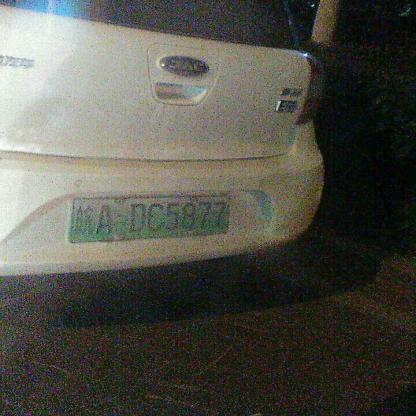lp: (71, 192, 232, 242)
